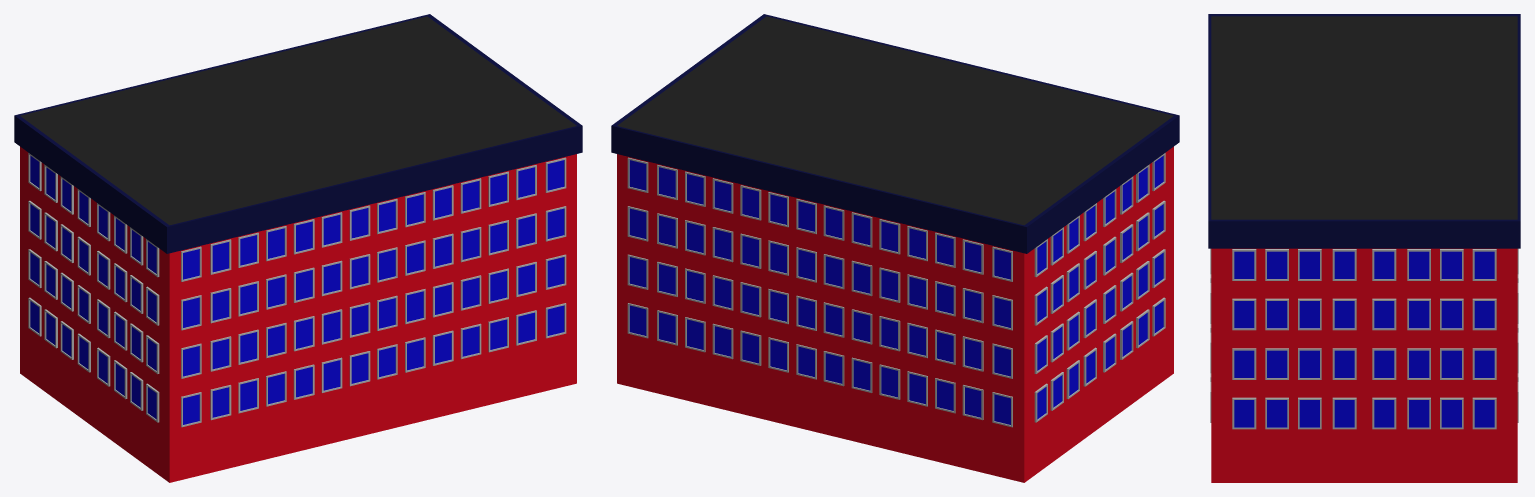
Rendered from office.glb.
3 views of the same model, side by side, from view 1: azimuth 30°, elevation 25°; view 2: azimuth 150°, elevation 25°; view 3: azimuth 270°, elevation 25° (orthographic). The views are drawn at different scales.
Parts seen in each view (by area): view 1: Cube, Window; view 2: Cube, Window; view 3: Cube, Window.
Part boxes in pixels (x1=…): Cube: x1=14, y1=14, x2=582, y2=482; Window: x1=28, y1=153, x2=566, y2=427; Cube: x1=611, y1=14, x2=1179, y2=482; Window: x1=627, y1=153, x2=1165, y2=427; Cube: x1=1208, y1=14, x2=1520, y2=482; Window: x1=1210, y1=248, x2=1518, y2=429.
Bounding box in the file's own units: 22.44 × 13.3 × 14.28.
